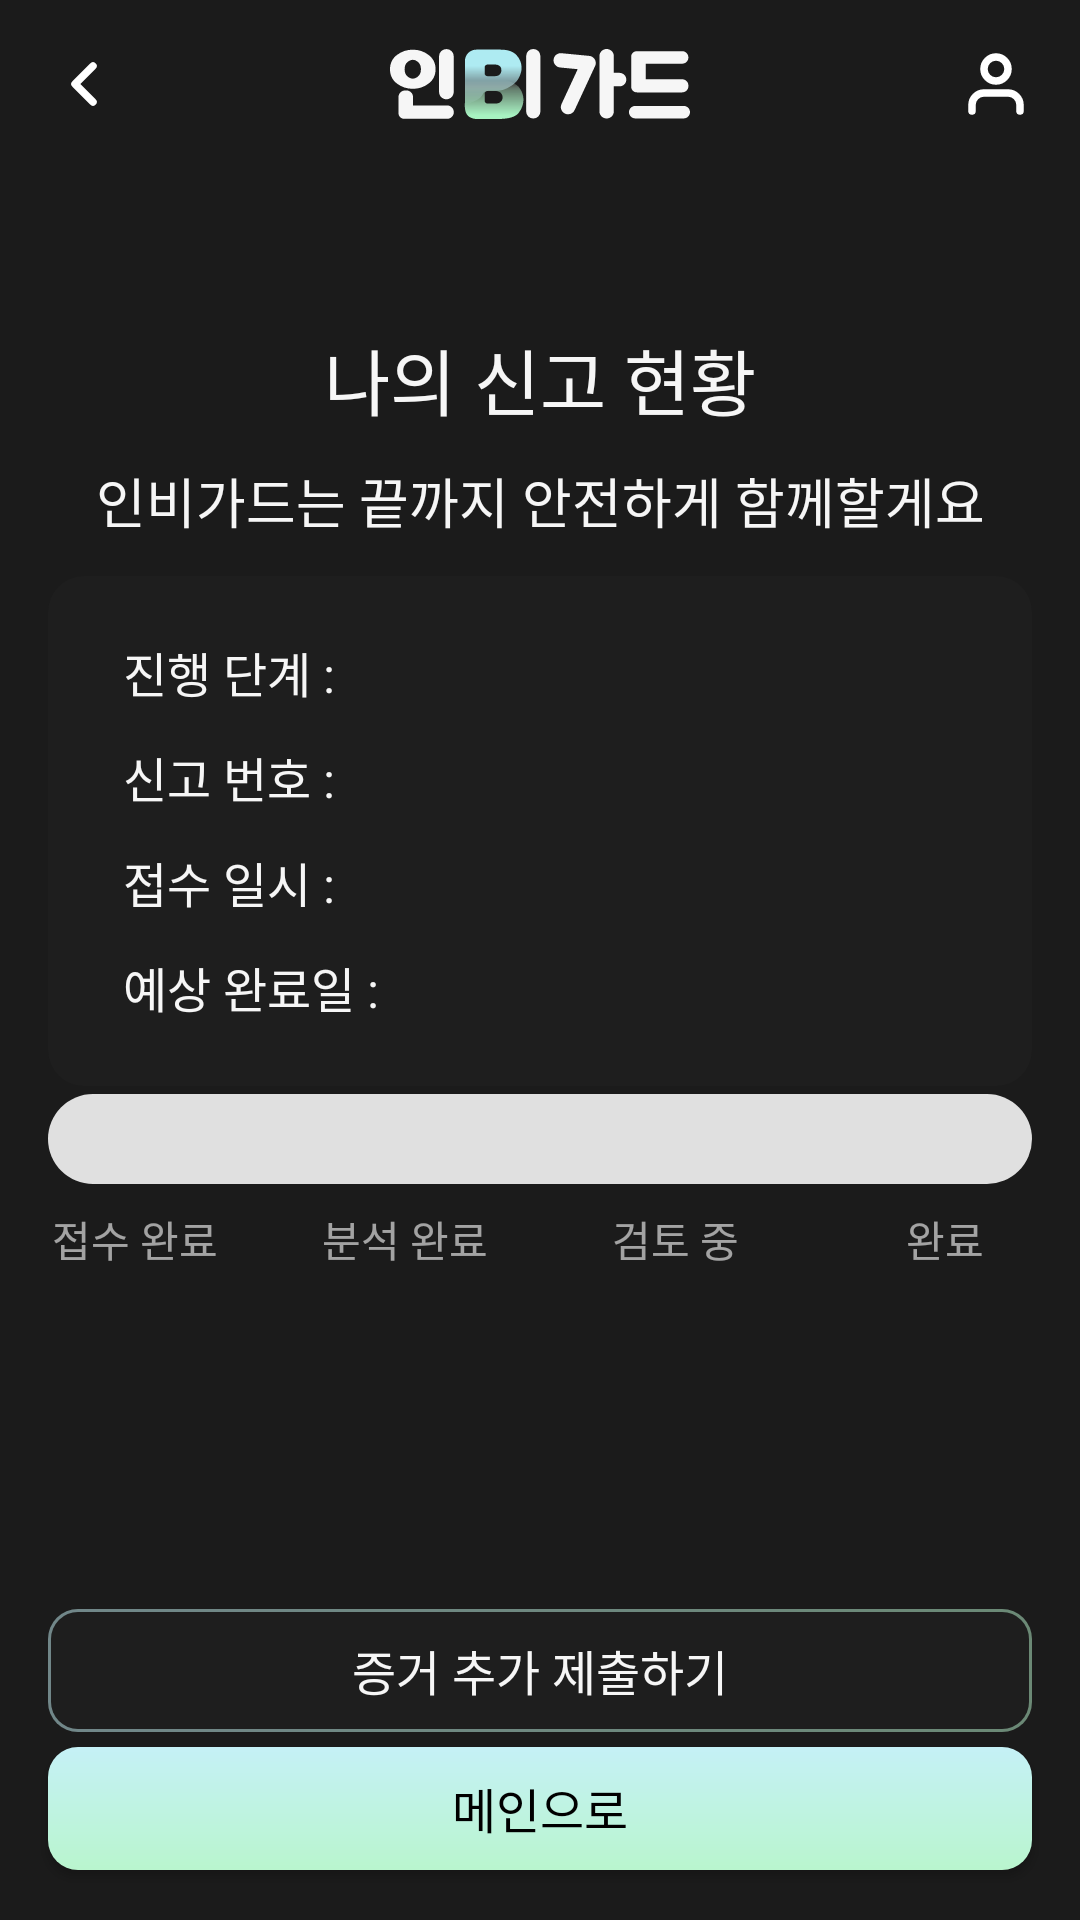

Locate icon controls on the screen. Image size 1080 × 1920, boxes as [x1, y1, x2, y2].
left: [71, 62, 97, 106]
user: [968, 53, 1024, 115]
